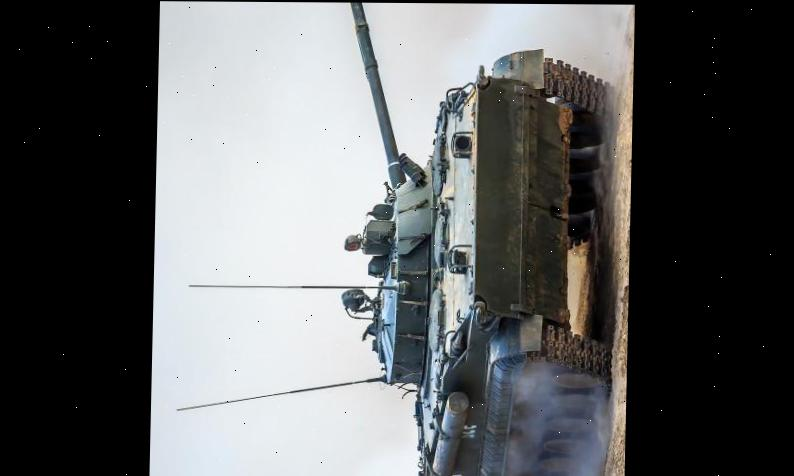tank: (332, 3, 622, 476)
